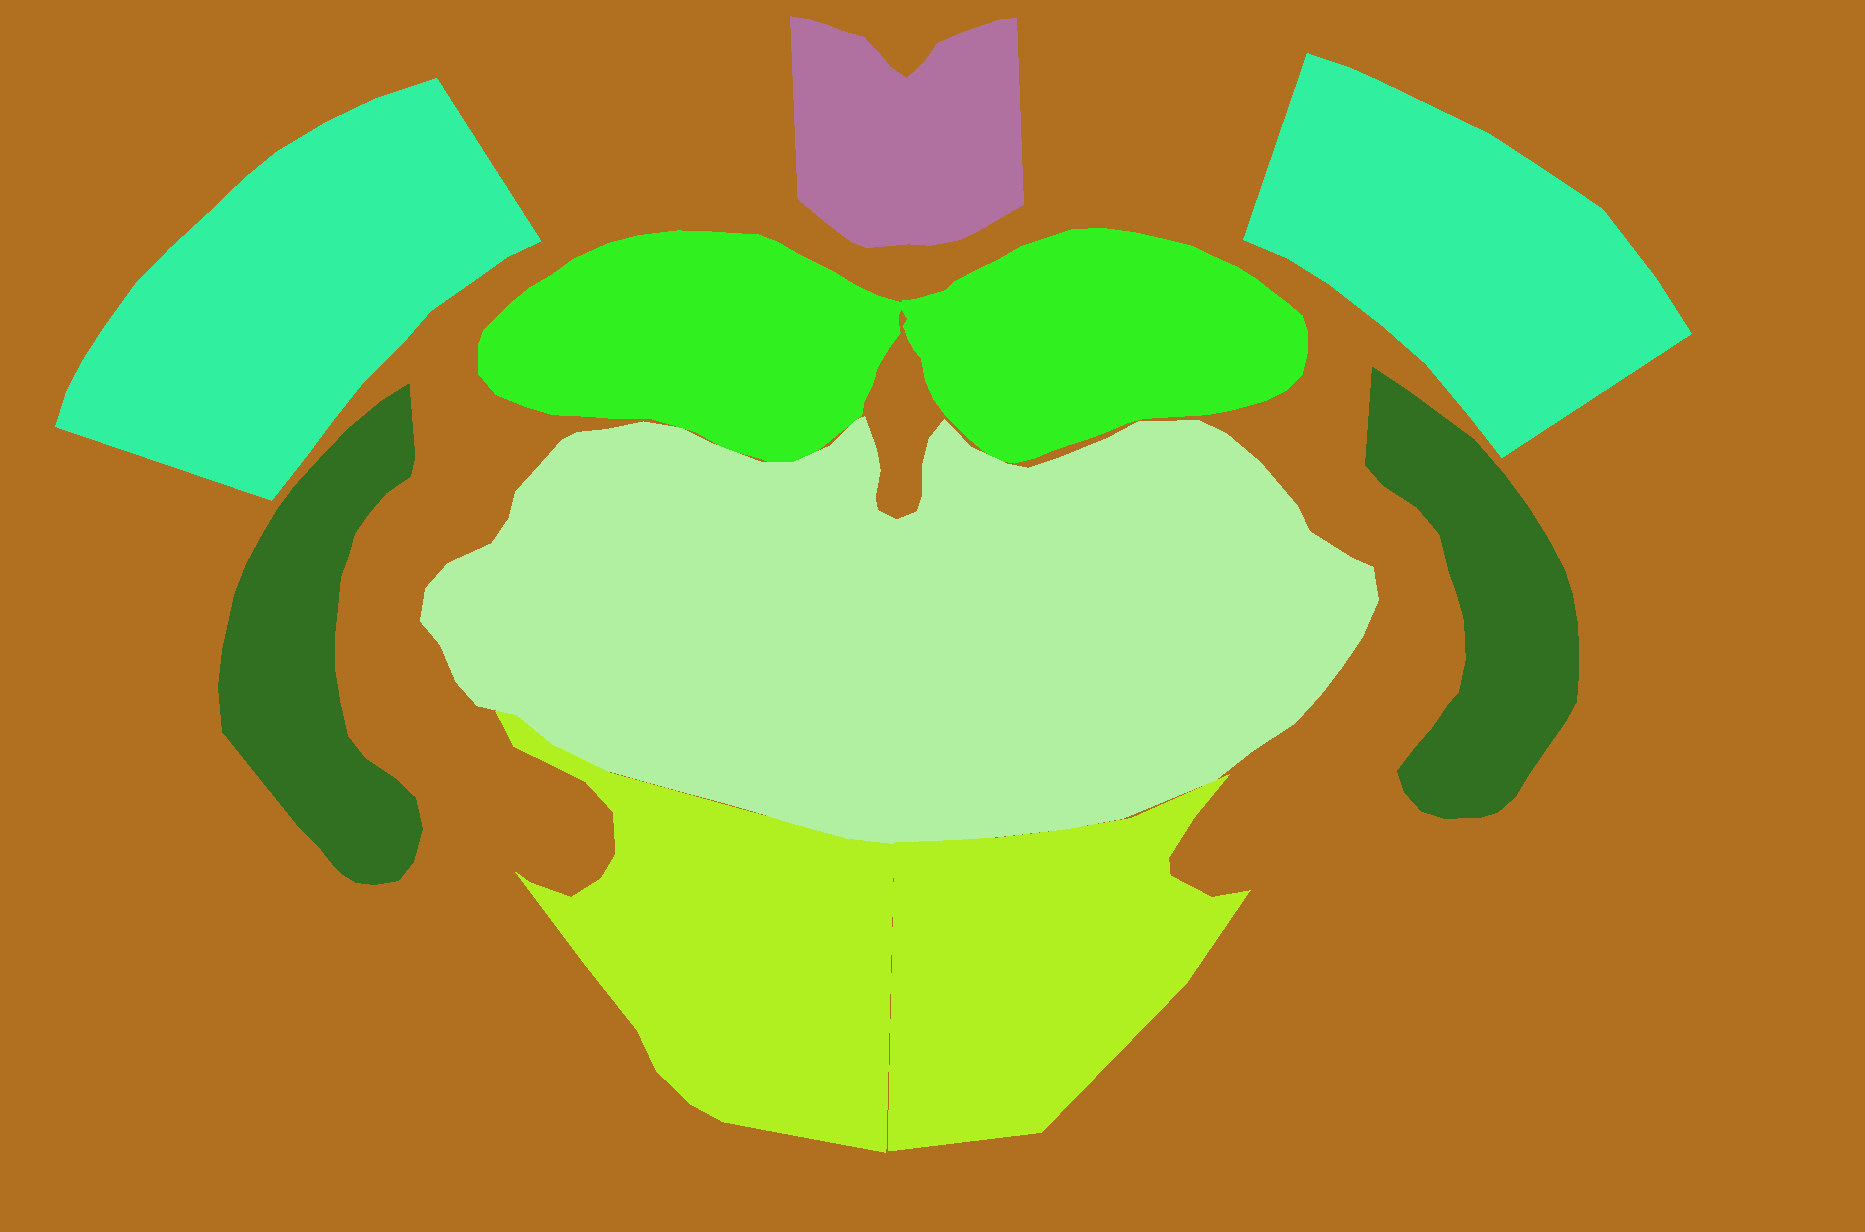Cerebral nuclei: (219, 384, 423, 885), (1365, 366, 1579, 818)
Hippocampal formation: (478, 230, 902, 465), (902, 228, 1308, 463)
Hypothalamus: (495, 711, 893, 1154), (888, 774, 1251, 1152)
Retrosplenial area: (790, 16, 908, 247), (906, 18, 1024, 246)
Somatosensory area: (55, 78, 541, 500), (1242, 54, 1692, 458)
Thalamus: (893, 419, 1378, 843), (421, 417, 897, 844)
